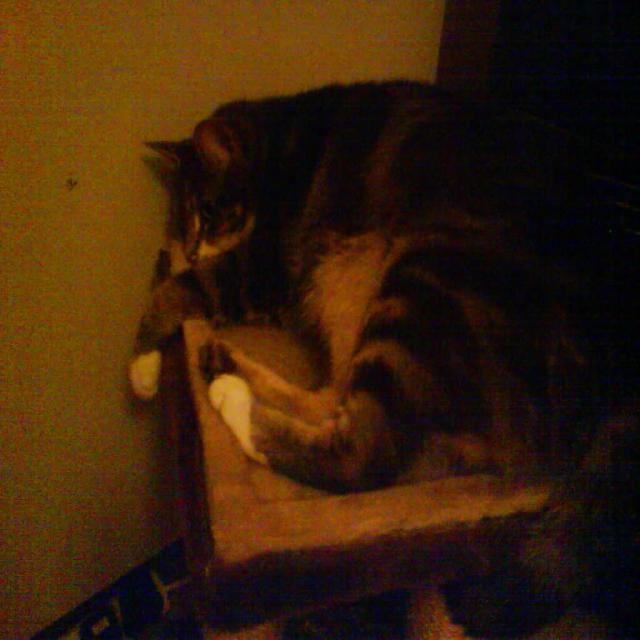Cat: (130, 59, 626, 503)
